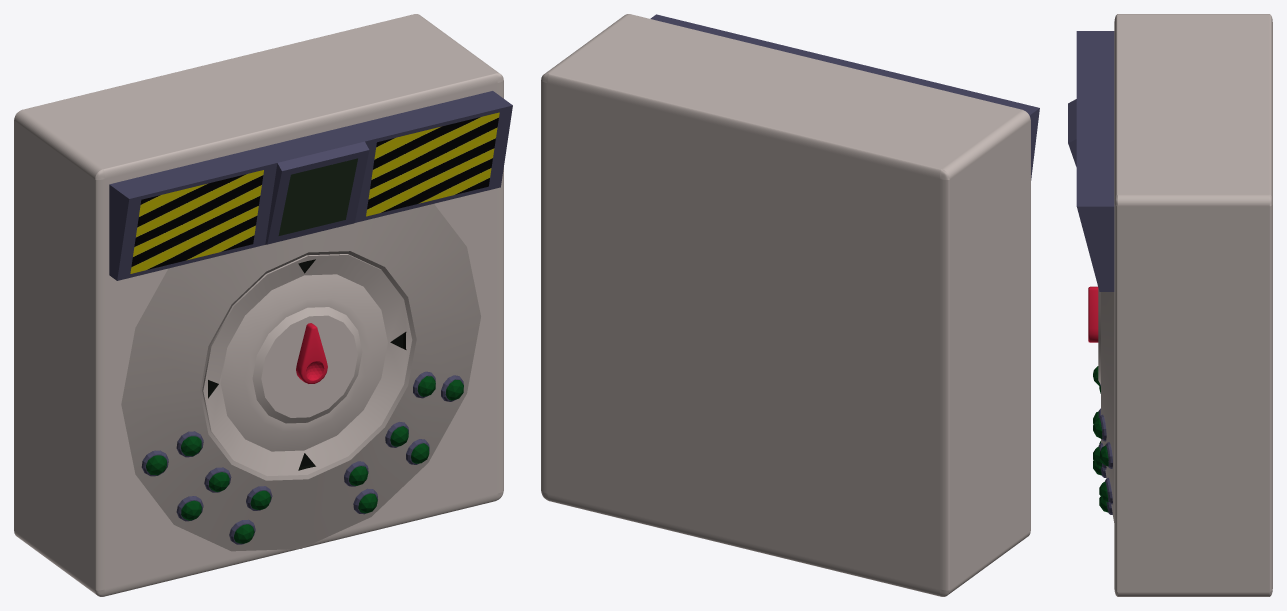
File: needy-knob.glb
3 renders of one model, left to right at view 1: azimuth 30°, elevation 25°; view 2: azimuth 150°, elevation 25°; view 3: azimuth 270°, elevation 25°, orthographic. The views are drawn at different scales.
Parts seen in each view (by area): view 1: NeedyKnobModule, KnobShell.Outer, TimerScreen.Base, KnobShell.Inner, TimerScreen.Num, Dial; view 2: NeedyKnobModule, TimerScreen.Base; view 3: NeedyKnobModule, TimerScreen.Base, KnobShell.Outer, Dial.
Part boxes in pixels (box(x1,y1,x2,y2)): NeedyKnobModule: box(14, 14, 503, 596); KnobShell.Outer: box(121, 204, 480, 551); TimerScreen.Base: box(109, 91, 512, 280); KnobShell.Inner: box(202, 254, 412, 476); TimerScreen.Num: box(278, 158, 357, 235); Dial: box(296, 323, 327, 383); NeedyKnobModule: box(541, 14, 1030, 596); TimerScreen.Base: box(650, 14, 1039, 180); NeedyKnobModule: box(1114, 14, 1272, 596); TimerScreen.Base: box(1068, 31, 1114, 291); KnobShell.Outer: box(1101, 292, 1114, 522); Dial: box(1088, 286, 1098, 342).
Size of the model in its own units: 0.1761 by 0.1761 by 0.0814.
Materials: 8 (1 with a texture image).
